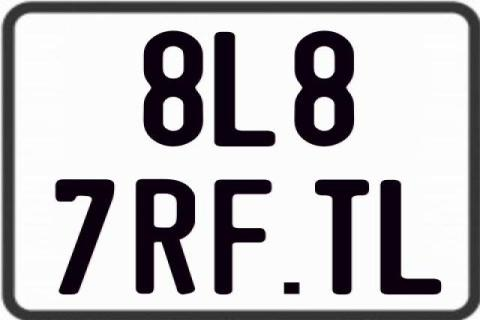0: (294, 29, 357, 148), (141, 30, 204, 146), (53, 179, 113, 297)
F: (212, 177, 273, 296)
L: (380, 180, 446, 298), (211, 30, 275, 148)
R: (134, 180, 194, 296)
T: (314, 177, 374, 297)
